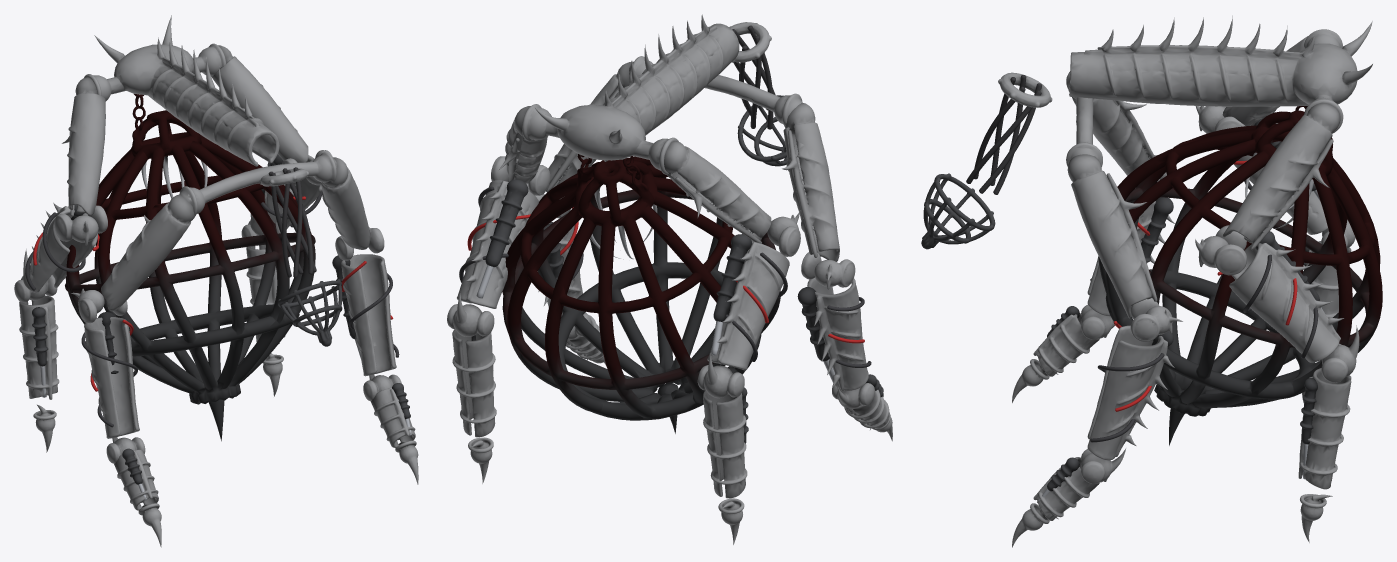
Rendered from gibbet-parts.glb.
3 renders of one model, left to right at view 1: azimuth 30°, elevation 25°; view 2: azimuth 150°, elevation 25°; view 3: azimuth 270°, elevation 25°, orthographic. The views are drawn at different scales.
Visible parts, largest first — view 1: hem|cage, spine|beam, forearm.l|tibia, forearm.r|tibia, thigh.r|carapace, upperarm.r|carapace, thigh.l|carapace, foot.r|cannon, upperarm.l|carapace, shin.r|tibia, neck|cables, skull|muzzle (+17 smaller); view 2: hem|cage, spine|beam, upperarm.r|carapace, shin.r|tibia, thigh.r|carapace, forearm.r|tibia, shin.l|tibia, foot.r|cannon, foot.l|cannon, thigh.l|carapace, upperarm.l|carapace, shin.l|piston (+16 smaller); view 3: hem|cage, spine|beam, upperarm.l|carapace, thigh.l|carapace, shin.l|tibia, forearm.l|tibia, foot.l|cannon, upperarm.r|carapace, skull|muzzle, neck|cables, hand.r|cannon, shin.l|knee (+18 smaller).
Part boxes in pixels (bbox=[...]): hem|cage: bbox=[65, 94, 315, 441]; spine|beam: bbox=[84, 15, 336, 215]; forearm.l|tibia: bbox=[341, 254, 396, 376]; forearm.r|tibia: bbox=[84, 317, 139, 438]; thigh.r|carapace: bbox=[61, 77, 105, 216]; upperarm.r|carapace: bbox=[101, 194, 196, 311]; thigh.l|carapace: bbox=[211, 45, 308, 162]; foot.r|cannon: bbox=[19, 295, 59, 399]; upperarm.l|carapace: bbox=[320, 157, 370, 249]; shin.r|tibia: bbox=[23, 202, 97, 293]; neck|cables: bbox=[268, 167, 316, 277]; skull|muzzle: bbox=[278, 279, 342, 346]; hem|cage: bbox=[502, 154, 780, 433]; spine|beam: bbox=[522, 14, 802, 174]; upperarm.r|carapace: bbox=[782, 102, 839, 261]; shin.r|tibia: bbox=[707, 241, 789, 370]; thigh.r|carapace: bbox=[664, 141, 771, 243]; forearm.r|tibia: bbox=[807, 277, 868, 390]; shin.l|tibia: bbox=[457, 180, 538, 308]; foot.r|cannon: bbox=[703, 390, 747, 498]; foot.l|cannon: bbox=[452, 329, 496, 437]; thigh.l|carapace: bbox=[499, 106, 547, 183]; upperarm.l|carapace: bbox=[546, 61, 633, 192]; shin.l|piston: bbox=[485, 179, 528, 267]; hem|cage: bbox=[1098, 106, 1382, 445]; spine|beam: bbox=[1066, 15, 1372, 166]; upperarm.l|carapace: bbox=[1067, 154, 1157, 318]; thigh.l|carapace: bbox=[1223, 103, 1340, 250]; shin.l|tibia: bbox=[1229, 243, 1343, 362]; forearm.l|tibia: bbox=[1087, 325, 1174, 460]; foot.l|cannon: bbox=[1298, 368, 1351, 489]; upperarm.r|carapace: bbox=[1068, 90, 1154, 175]; skull|muzzle: bbox=[921, 173, 995, 249]; neck|cables: bbox=[966, 75, 1041, 194]; hand.r|cannon: bbox=[1033, 313, 1099, 376]; shin.l|knee: bbox=[1195, 225, 1246, 275].
Size of the model in its own units: 1.05 by 1.34 by 1.2.
